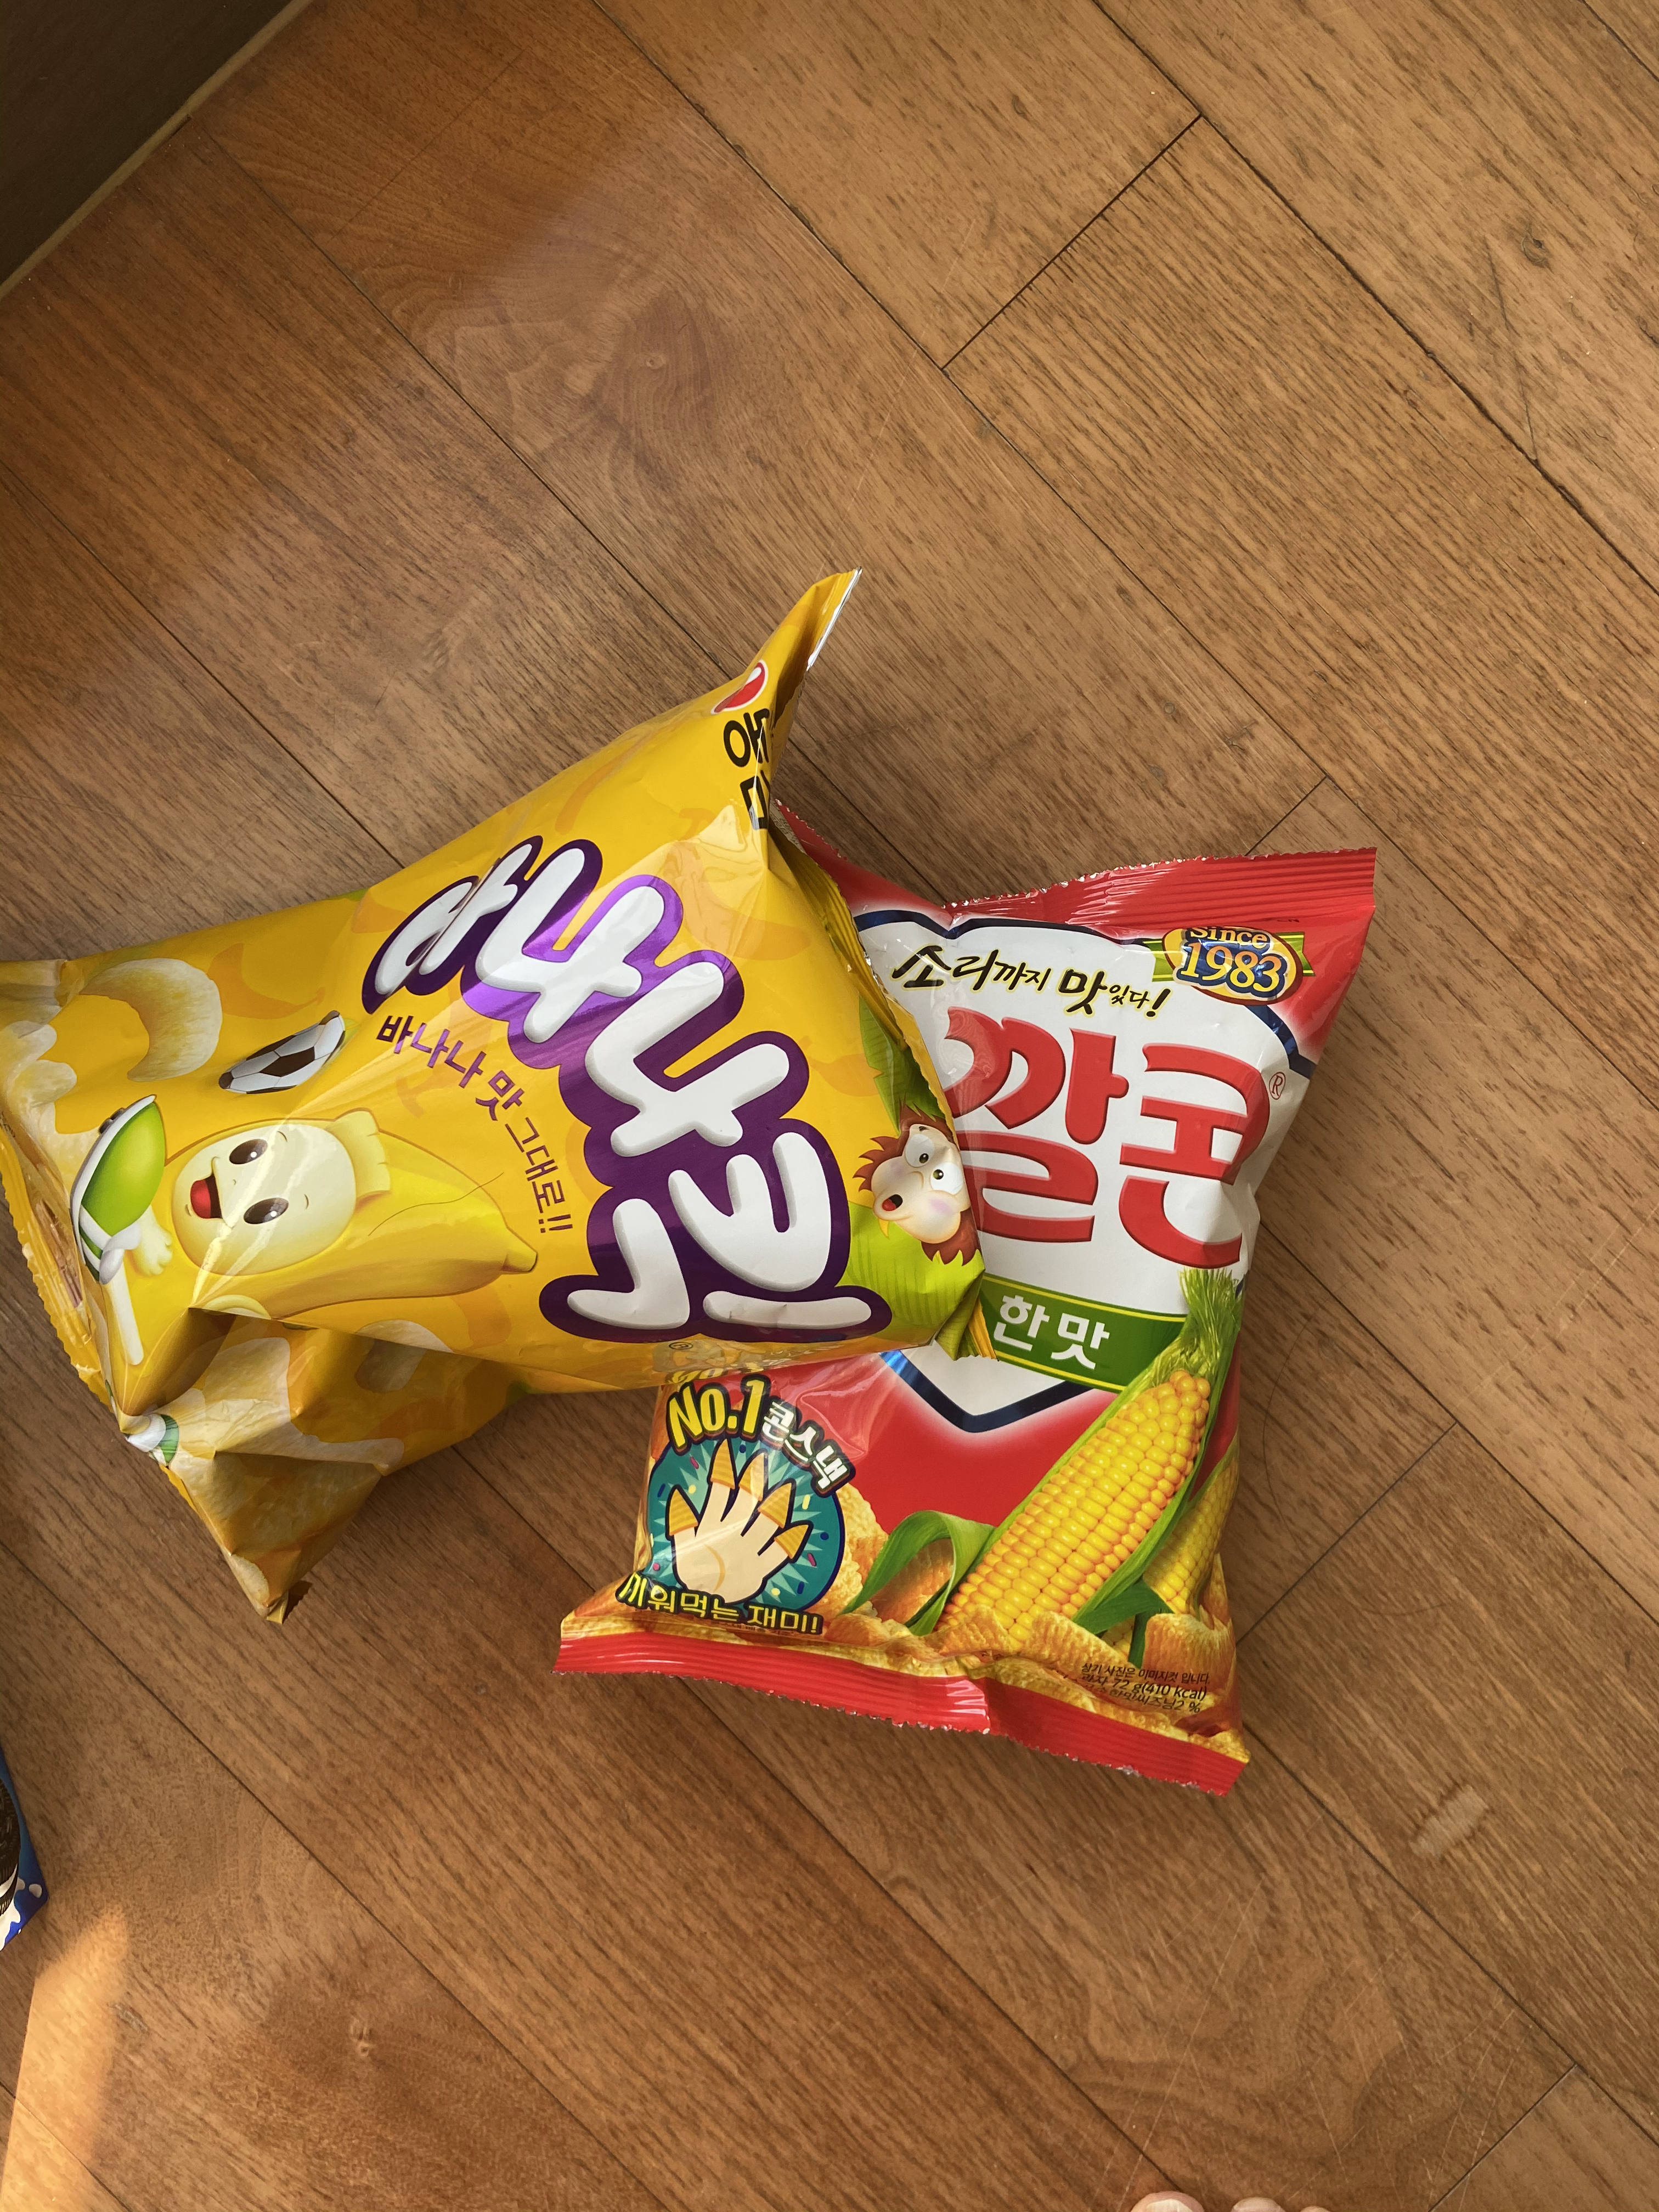banana: (0, 568, 1012, 1641)
ggoggalcon: (519, 791, 1392, 1808)
